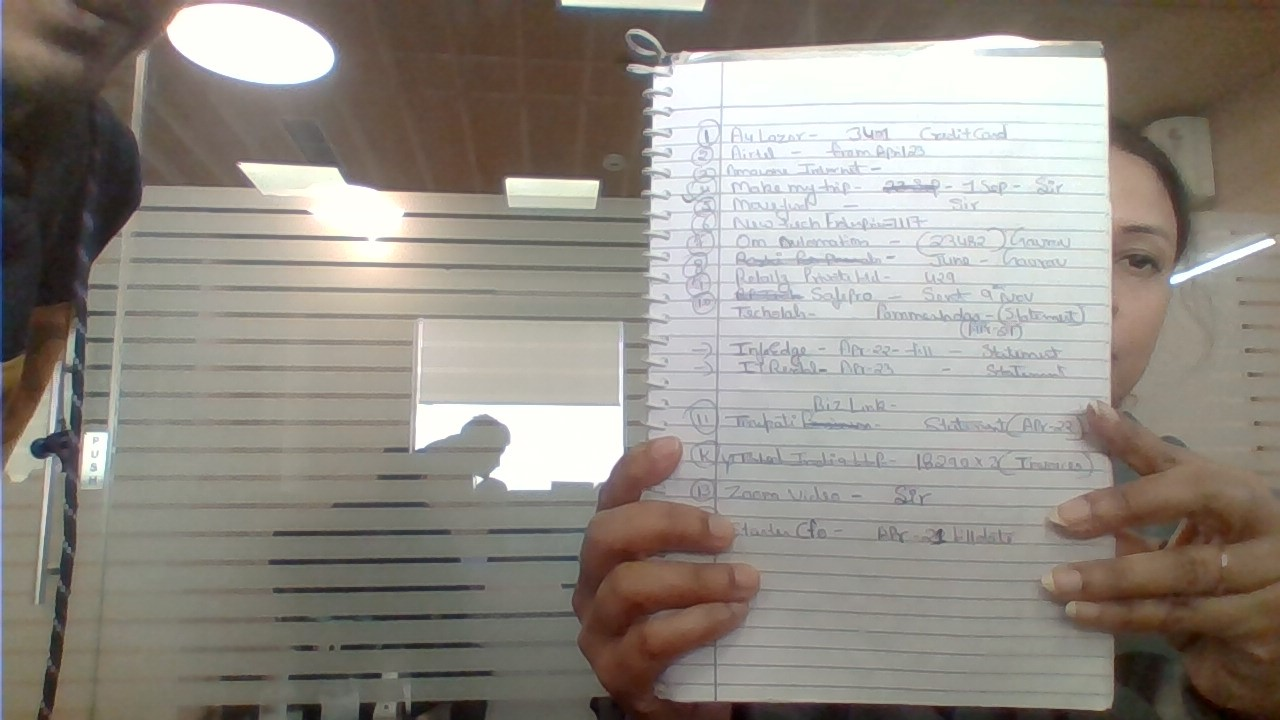notebook: (639, 50, 1122, 716)
